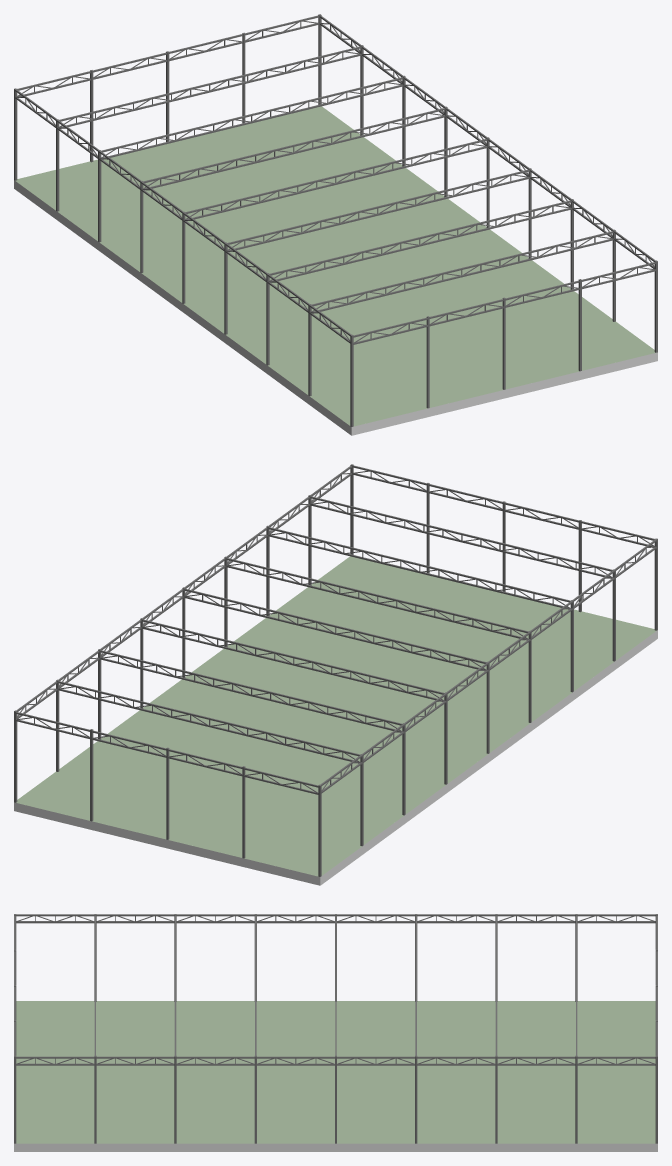
Rendered from futsalPlayGround.glb.
The picture shows the model from 3 angles, top to bottom: view 1: azimuth 30°, elevation 25°; view 2: azimuth 150°, elevation 25°; view 3: azimuth 270°, elevation 25°; orthographic projection. The views are drawn at different scales.
Parts seen in each view (by area): view 1: GroundObj, SteelObj; view 2: GroundObj, SteelObj; view 3: GroundObj, SteelObj.
Part boxes in pixels (bbox=[...]): GroundObj: bbox=[14, 106, 657, 435]; SteelObj: bbox=[14, 14, 657, 426]; GroundObj: bbox=[14, 556, 657, 885]; SteelObj: bbox=[14, 464, 657, 876]; GroundObj: bbox=[14, 1001, 657, 1151]; SteelObj: bbox=[14, 914, 657, 1143].
Size of the model in its own units: 22 by 6.85 by 42.
